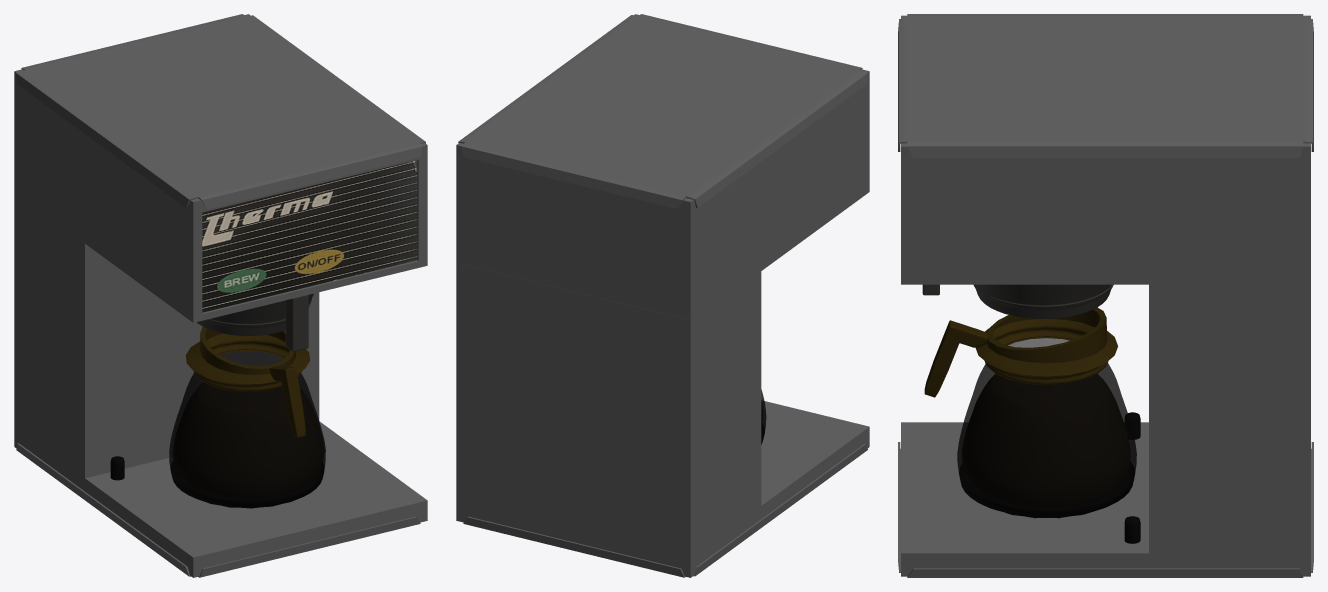
The model's file is Coffee-Maker.fbx.
The picture shows the model from 3 angles, left to right: view 1: azimuth 30°, elevation 25°; view 2: azimuth 150°, elevation 25°; view 3: azimuth 270°, elevation 25°; orthographic projection. The views are drawn at different scales.
Visible parts, largest first — view 1: pCube4, pCube2, pCube3, pCube1, pCylinder2, pCylinder25, pCylinder3, pCube7, pCylinder1, Handle1, Handle; view 2: pCube3, pCube4, pCube2, pCube1, pCube7; view 3: pCube4, pCube2, pCube3, pCube1, pCylinder2, pCylinder25, pCylinder3, pCube7, pCylinder1, Handle1.
Part boxes in pixels (left/top/right/bottom): pCube4: left=16, top=14, right=425, bottom=208; pCube2: left=14, top=14, right=427, bottom=322; pCube3: left=14, top=189, right=319, bottom=478; pCube1: left=14, top=421, right=427, bottom=577; pCylinder2: left=169, top=349, right=325, bottom=508; pCylinder25: left=173, top=382, right=323, bottom=498; pCylinder3: left=186, top=327, right=310, bottom=391; pCube7: left=16, top=443, right=420, bottom=577; pCylinder1: left=196, top=293, right=313, bottom=335; Handle1: left=269, top=366, right=305, bottom=437; Handle: left=284, top=295, right=308, bottom=351; pCube3: left=456, top=263, right=761, bottom=557; pCube4: left=458, top=14, right=867, bottom=208; pCube2: left=456, top=14, right=869, bottom=320; pCube1: left=456, top=401, right=869, bottom=577; pCube7: left=463, top=443, right=867, bottom=577; pCube4: left=898, top=14, right=1313, bottom=157; pCube2: left=901, top=15, right=1310, bottom=284; pCube3: left=1149, top=281, right=1310, bottom=553; pCube1: left=901, top=422, right=1310, bottom=576; pCylinder2: left=957, top=336, right=1136, bottom=518; pCylinder25: left=962, top=374, right=1130, bottom=508; pCylinder3: left=975, top=307, right=1117, bottom=384; pCube7: left=898, top=442, right=1313, bottom=577; pCylinder1: left=973, top=284, right=1113, bottom=318; Handle1: left=924, top=320, right=987, bottom=397.
Bounding box in the file's own units: 3.16 × 4.85 × 4.17.
10 materials, 2 textured.
